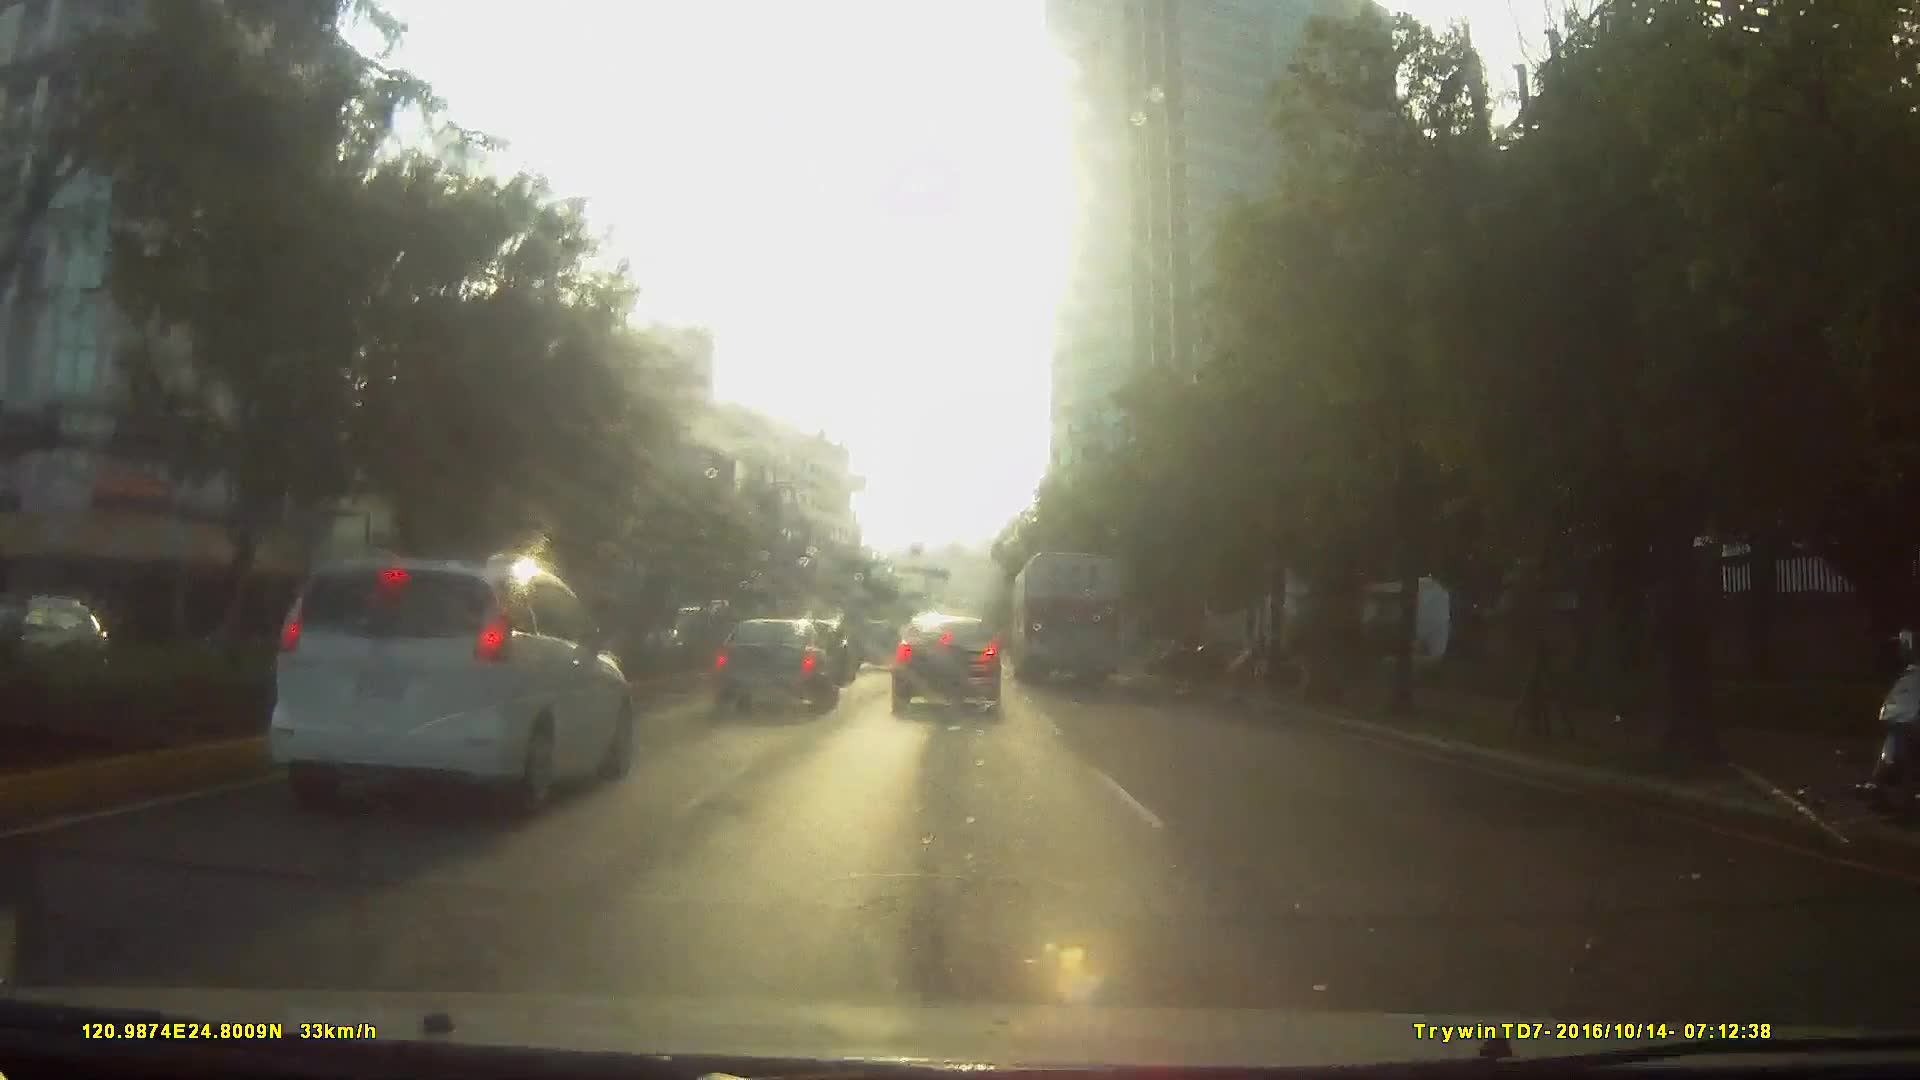vehicle: (251, 556, 684, 868), (245, 550, 642, 825), (1011, 549, 1125, 687), (709, 615, 843, 716), (891, 611, 1005, 716), (849, 618, 905, 674)
